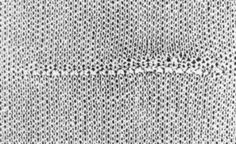Hole: (15, 47, 228, 97)
